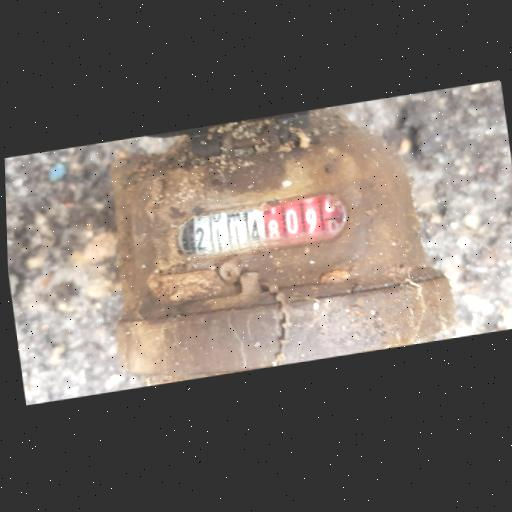0: (279, 199, 306, 247)
1: (209, 211, 233, 258), (227, 208, 251, 255)
2: (191, 213, 216, 260)
4: (243, 205, 268, 252)
8: (260, 203, 287, 250), (318, 195, 342, 242)
9: (298, 197, 324, 244)
border_water_meter_number: (173, 188, 355, 270)
